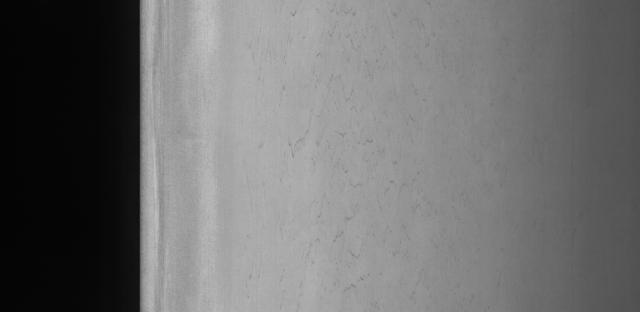silk_spot: (273, 29, 442, 283)
